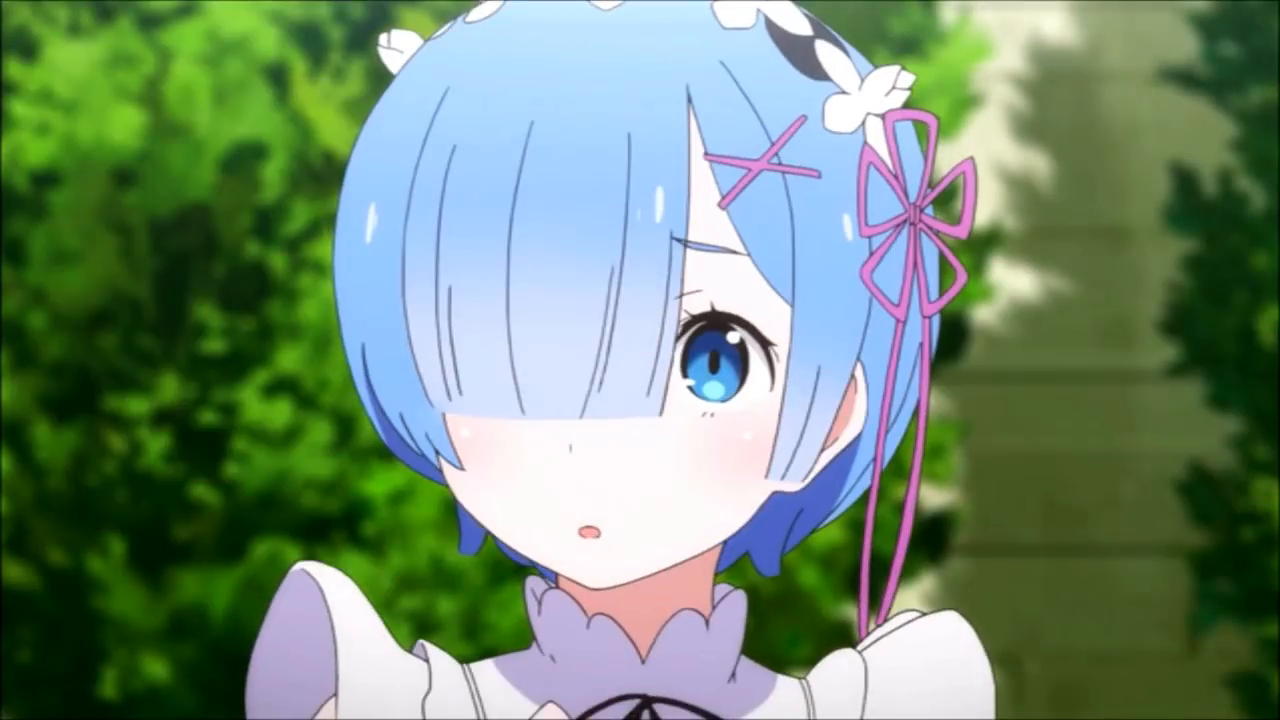REM: (321, 1, 950, 593)
